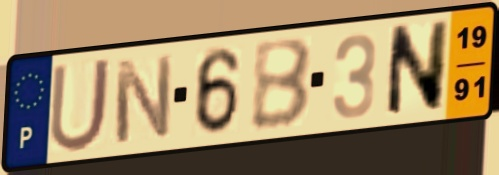3: (330, 31, 378, 120)
6: (192, 44, 245, 138)
B: (249, 35, 315, 134)
N: (382, 17, 452, 122), (112, 52, 175, 147)
U: (46, 54, 114, 156)
